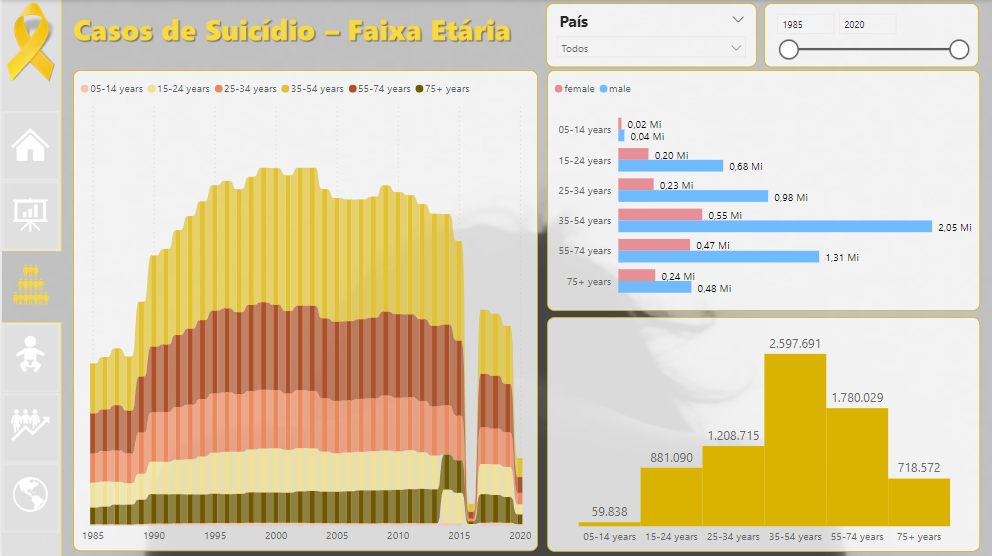

The page's visual inventory and layout, read from the dashboard file:
{"tool":"powerbi","page":{"name":"Faixa_Etária","canvas":[1280,720],"ordinal":2},"visuals":[{"type":"ribbonChart","fields":{"Category":["master.year"],"Y":["Sum(master.suicides_no)"],"Series":["master.age"]},"box":[91.6,104.5,600,606.5],"z":0},{"type":"clusteredBarChart","fields":{"Category":["master.age"],"Y":["Sum(master.suicides_no)"],"Series":["master.sex"]},"box":[703.7,104.5,558.4,303.4],"z":1000},{"type":"clusteredColumnChart","fields":{"Category":["master.age"],"Y":["Sum(master.suicides_no)"]},"box":[703.7,418.2,558.4,293.2],"z":2000},{"type":"slicer","fields":{"Values":["master.year"]},"box":[983.2,16.8,277.4,82.6],"z":3000},{"type":"slicer","fields":{"Values":["master.country - tratada"]},"box":[701.9,16.8,272.3,82.6],"z":4000},{"type":"actionButton","box":[0,233.5,74.8,90.3],"z":5000},{"type":"actionButton","box":[0,143.2,74.8,90.3],"z":6000},{"type":"actionButton","box":[0,416.8,74.8,89],"z":8000},{"type":"actionButton","box":[0,507.1,74.8,90.3],"z":9000},{"type":"actionButton","box":[0,597.4,74.8,90.3],"z":10000}]}

Visuals, with their boxes in screenshot pixels (x1, y1, x2, y2), scaled from the page's 1280x720 canvas onto the 992x556 screenshot:
ribbonChart - master.year x Sum(master.suicides_no): (left=71, top=81, right=536, bottom=549)
clusteredBarChart - master.age x Sum(master.suicides_no): (left=545, top=81, right=978, bottom=315)
clusteredColumnChart - master.age x Sum(master.suicides_no): (left=545, top=323, right=978, bottom=549)
slicer - master.year: (left=762, top=13, right=977, bottom=77)
slicer - master.country - tratada: (left=544, top=13, right=755, bottom=77)
actionButton: (left=0, top=180, right=58, bottom=250)
actionButton: (left=0, top=111, right=58, bottom=180)
actionButton: (left=0, top=322, right=58, bottom=391)
actionButton: (left=0, top=392, right=58, bottom=461)
actionButton: (left=0, top=461, right=58, bottom=531)
